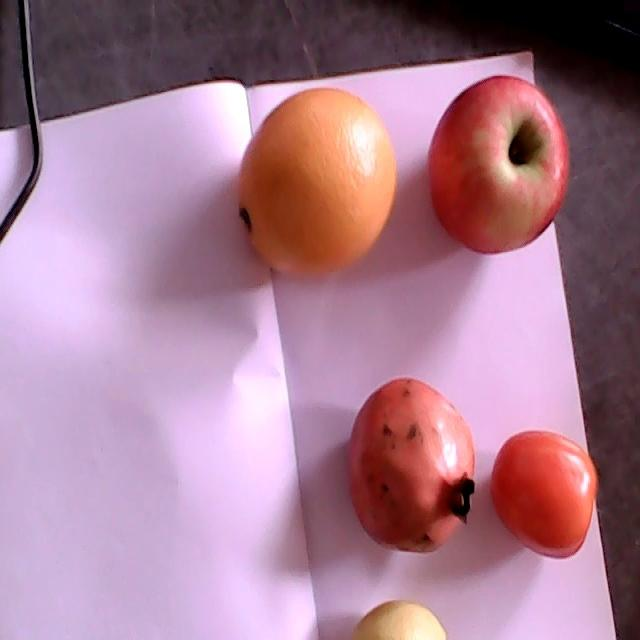apple: (427, 76, 569, 254)
lemon: (352, 602, 446, 639)
orange: (237, 89, 398, 278)
pomegranate: (345, 377, 476, 555)
tomato: (490, 431, 600, 557)
